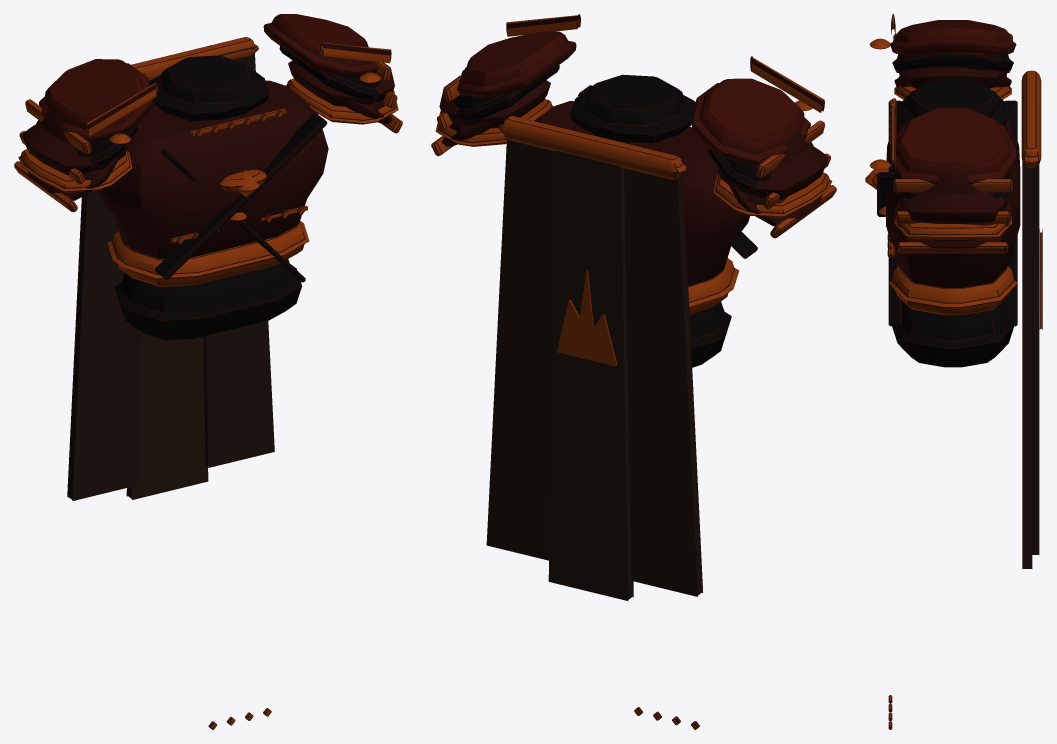
Rendered from Igneo_Armadura.fbx.
The picture shows the model from 3 angles, left to right: view 1: azimuth 30°, elevation 25°; view 2: azimuth 150°, elevation 25°; view 3: azimuth 270°, elevation 25°; orthographic projection. The views are drawn at different scales.
Visible parts, largest first — view 1: Piece; view 2: Piece; view 3: Piece.
Boxes of the visible parts, left/top/right/bottom form: Piece: left=14, top=14, right=402, bottom=729; Piece: left=431, top=14, right=836, bottom=729; Piece: left=865, top=14, right=1042, bottom=729.
Size of the model in its own units: 0.8838 by 1.56 by 0.3843.
